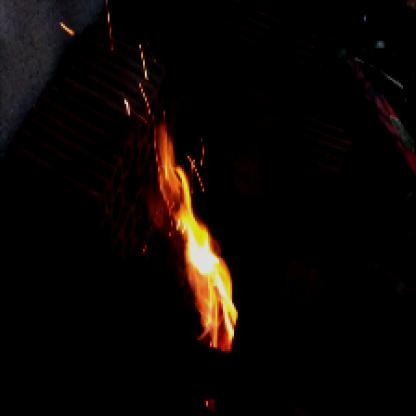Fire: (145, 102, 241, 359)
